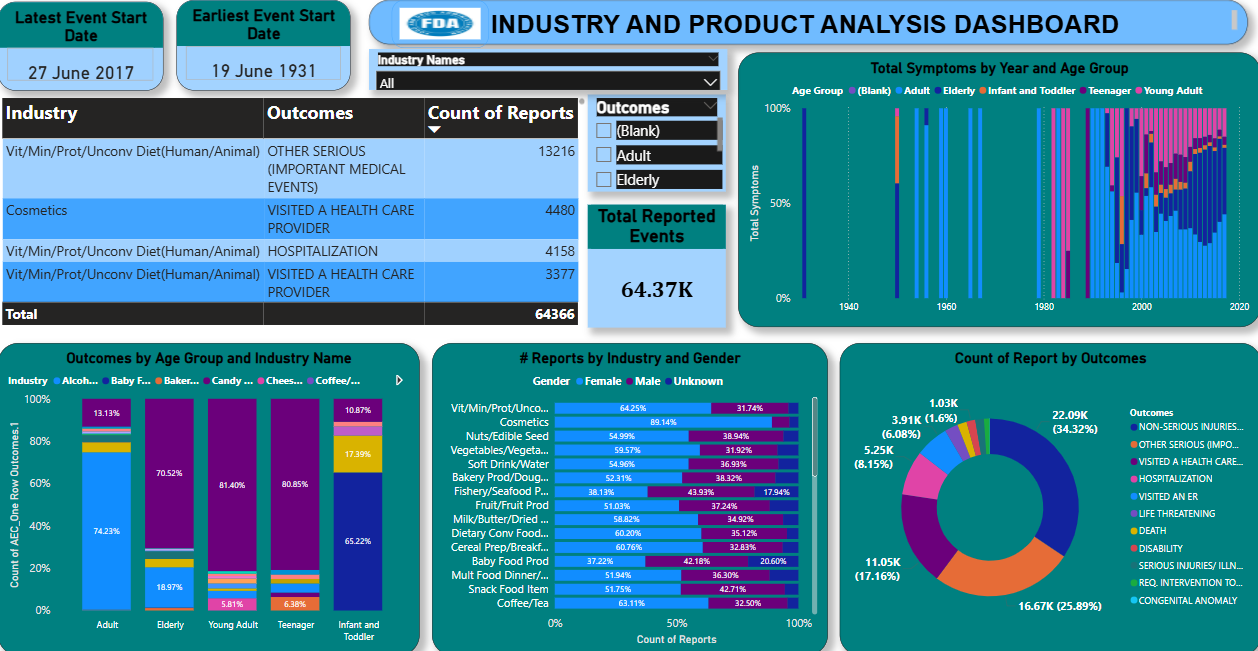

The page's visual inventory and layout, read from the dashboard file:
{"tool":"powerbi","page":{"name":"Industry And Product Analysis Dashboard","canvas":[1850,960],"ordinal":2},"visuals":[{"type":"donutChart","title":"Count of Report by Outcomes","fields":{"Y":["Count(CAERS_ASCII_2004_2017Q2.RA_Report #)"],"Category":["CAERS_ASCII_2004_2017Q2.AEC_One Row Outcomes.1"]},"box":[1232.5,502.5,617.5,457.5],"z":0},{"type":"hundredPercentStackedBarChart","title":"# Reports by Industry and Gender","fields":{"Category":["CAERS_ASCII_2004_2017Q2.PRI_FDA Industry Name"],"Y":["Count(CAERS_ASCII_2004_2017Q2.RA_Report #)"],"Series":["CAERS_ASCII_2004_2017Q2.CI_Gender"]},"box":[635,502.5,580,457.5],"z":1000},{"type":"tableEx","title":"Total Events By Industry Name And Outcome","fields":{"Values":["CAERS_ASCII_2004_2017Q2.PRI_FDA Industry Name","CAERS_ASCII_2004_2017Q2.AEC_One Row Outcomes.1","Count(CAERS_ASCII_2004_2017Q2.RA_Report #)"]},"box":[0,137.5,865,342.5],"z":2000},{"type":"hundredPercentStackedColumnChart","title":"Total Symptoms by Year and Age Group","fields":{"Category":["CAERS_ASCII_2004_2017Q2.AEC_Event Start Date.Variation.Date Hierarchy.Year"],"Series":["CAERS_ASCII_2004_2017Q2.Age Group"],"Y":["Sum(CAERS_ASCII_2004_2017Q2.SymptomFrequency)"]},"box":[1085,77.5,765,402.5],"z":3000},{"type":"hundredPercentStackedColumnChart","title":"Outcomes by Age Group and Industry Name","fields":{"Category":["CAERS_ASCII_2004_2017Q2.Age Group"],"Y":["CountNonNull(CAERS_ASCII_2004_2017Q2.AEC_One Row Outcomes.1)"],"Series":["CAERS_ASCII_2004_2017Q2.PRI_FDA Industry Name"]},"box":[0,502.5,617.5,457.5],"z":4000},{"type":"cardVisual","title":"Earliest Event Start Date","fields":{"Data":["Min(CAERS_ASCII_2004_2017Q2.AEC_Event Start Date)"]},"box":[262.5,0,255,132.5],"z":5000},{"type":"cardVisual","title":"Latest Event Start Date","fields":{"Data":["Max(CAERS_ASCII_2004_2017Q2.AEC_Event Start Date)"]},"box":[0,2.5,242.5,130],"z":6000},{"type":"cardVisual","title":"Total Reported  Events","fields":{"Data":["Count(CAERS_ASCII_2004_2017Q2.RA_Report #)"]},"box":[865,300,202.5,180],"z":7000},{"type":"textbox","box":[542.5,0,1287.5,65],"z":8000},{"type":"slicer","fields":{"Values":["CAERS_ASCII_2004_2017Q2.Age Group"]},"box":[865,137.5,202.5,142.5],"z":9000},{"type":"slicer","fields":{"Values":["CAERS_ASCII_2004_2017Q2.PRI_FDA Industry Name"]},"box":[542.5,72.5,525,60],"z":10000},{"type":"image","box":[577.5,0,142.5,70],"z":11000}]}

Visuals, with their boxes in screenshot pixels (x1, y1, x2, y2), scaled from the page's 1850x960 canvas onto the 1258x651 screenshot:
"Count of Report by Outcomes" donutChart: <bbox>838, 341, 1257, 650</bbox>
"# Reports by Industry and Gender" hundredPercentStackedBarChart: <bbox>432, 341, 826, 650</bbox>
"Total Events By Industry Name And Outcome" tableEx: <bbox>0, 93, 588, 326</bbox>
"Total Symptoms by Year and Age Group" hundredPercentStackedColumnChart: <bbox>738, 53, 1257, 326</bbox>
"Outcomes by Age Group and Industry Name" hundredPercentStackedColumnChart: <bbox>0, 341, 420, 650</bbox>
"Earliest Event Start Date" cardVisual: <bbox>178, 0, 352, 90</bbox>
"Latest Event Start Date" cardVisual: <bbox>0, 2, 165, 90</bbox>
"Total Reported  Events" cardVisual: <bbox>588, 203, 726, 326</bbox>
textbox: <bbox>369, 0, 1244, 44</bbox>
slicer - CAERS_ASCII_2004_2017Q2.Age Group: <bbox>588, 93, 726, 190</bbox>
slicer - CAERS_ASCII_2004_2017Q2.PRI_FDA Industry Name: <bbox>369, 49, 726, 90</bbox>
image: <bbox>393, 0, 490, 47</bbox>
